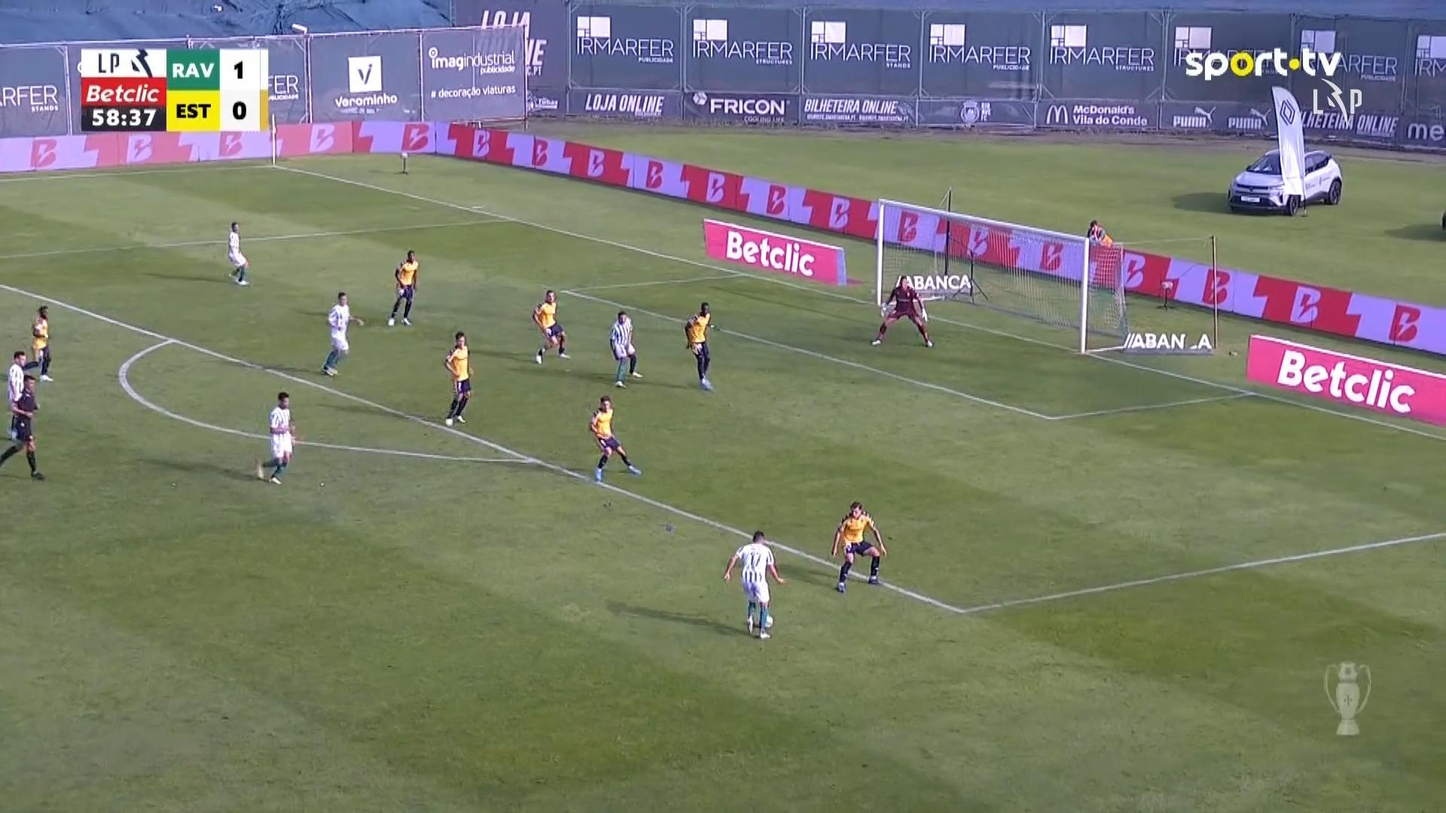ball: (762, 615, 775, 628)
goalkeeper: (870, 274, 933, 348)
player: (723, 529, 786, 639), (830, 500, 886, 593), (587, 394, 642, 483), (319, 291, 364, 376), (255, 391, 296, 484), (531, 289, 571, 364), (683, 301, 715, 391), (443, 330, 473, 426), (609, 309, 642, 388), (386, 249, 419, 326), (5, 349, 30, 443), (1086, 218, 1113, 288), (29, 304, 53, 381), (226, 221, 250, 286), (1086, 218, 1112, 247)
referee: (0, 373, 44, 480)
